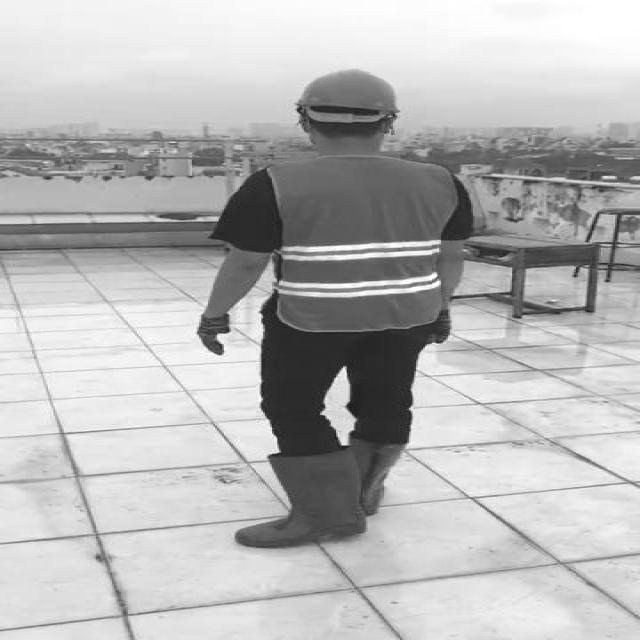boots: (242, 454, 362, 547), (354, 439, 404, 519)
hand_glove: (194, 312, 233, 357), (428, 306, 454, 345)
head_helmet: (292, 66, 404, 116)
person: (179, 66, 476, 557)
vest: (263, 158, 457, 329)
